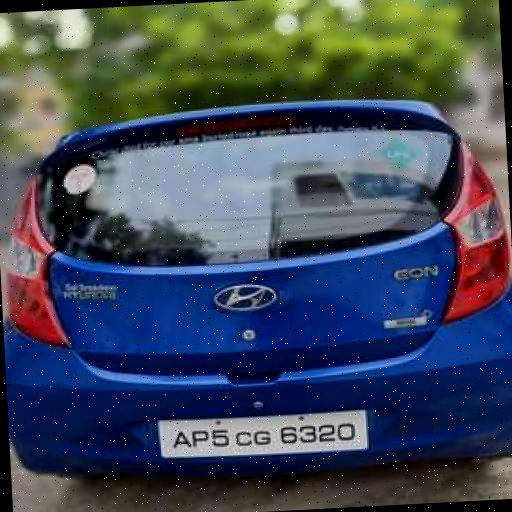license_plate`: (156, 408, 367, 458)
